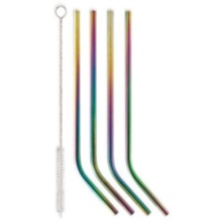drinking_straw: (121, 7, 174, 219), (68, 6, 120, 219)
